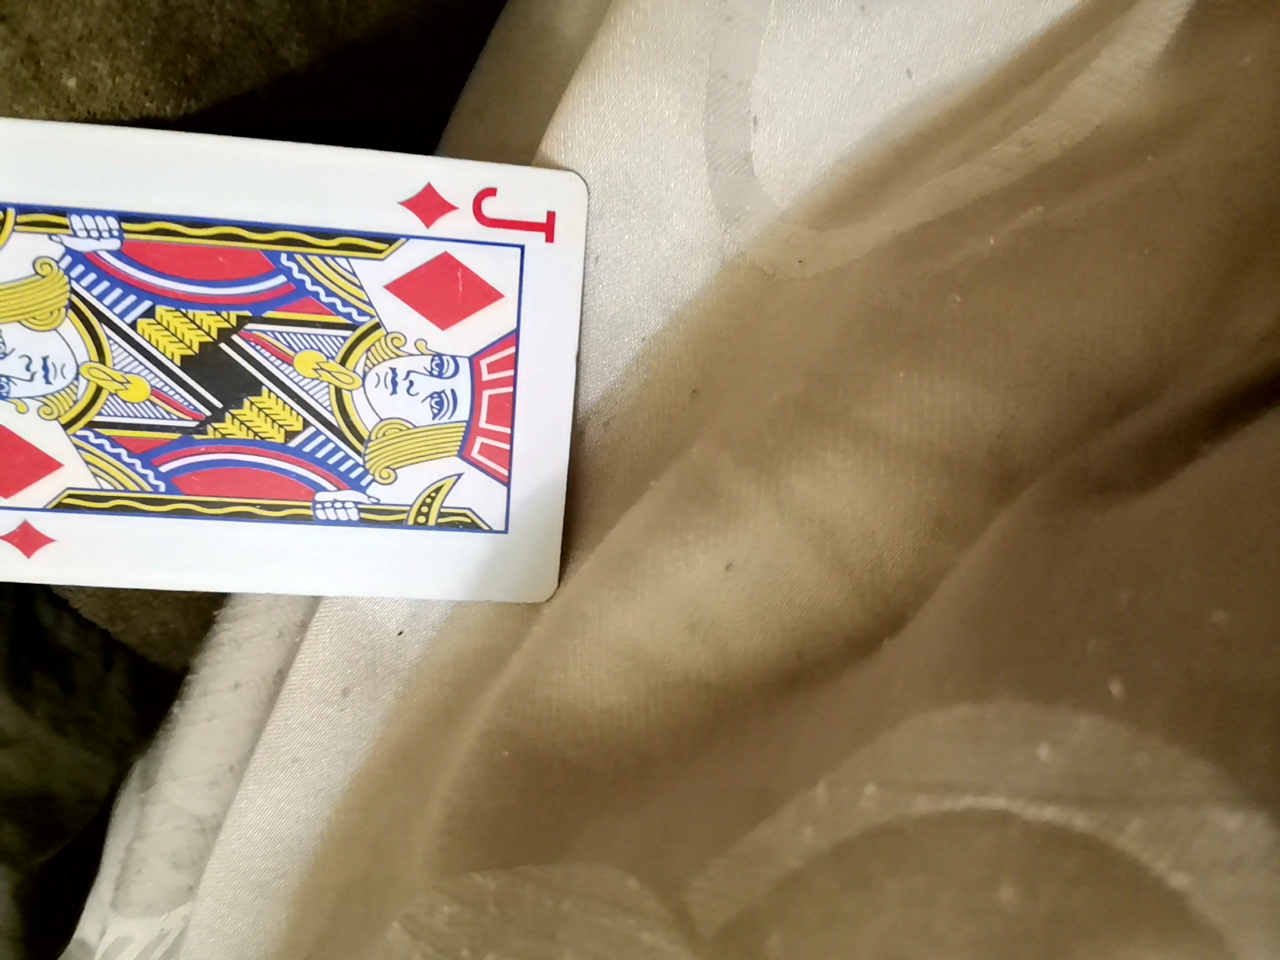fk j: (0, 151, 566, 636)
